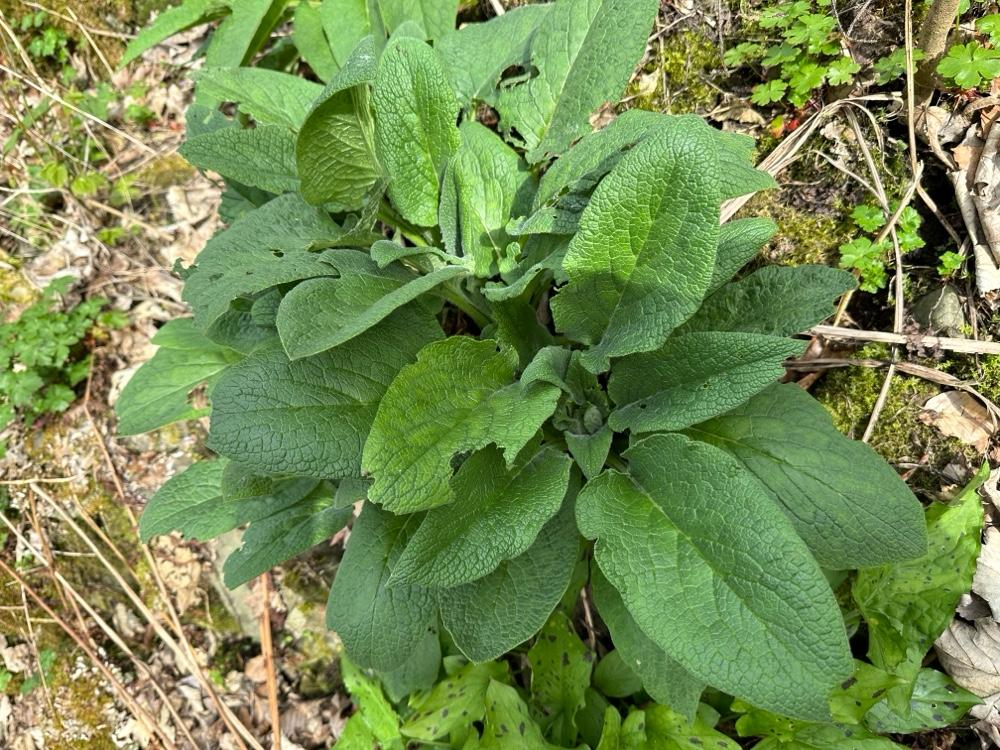Digitalis L: (125, 19, 934, 730)
